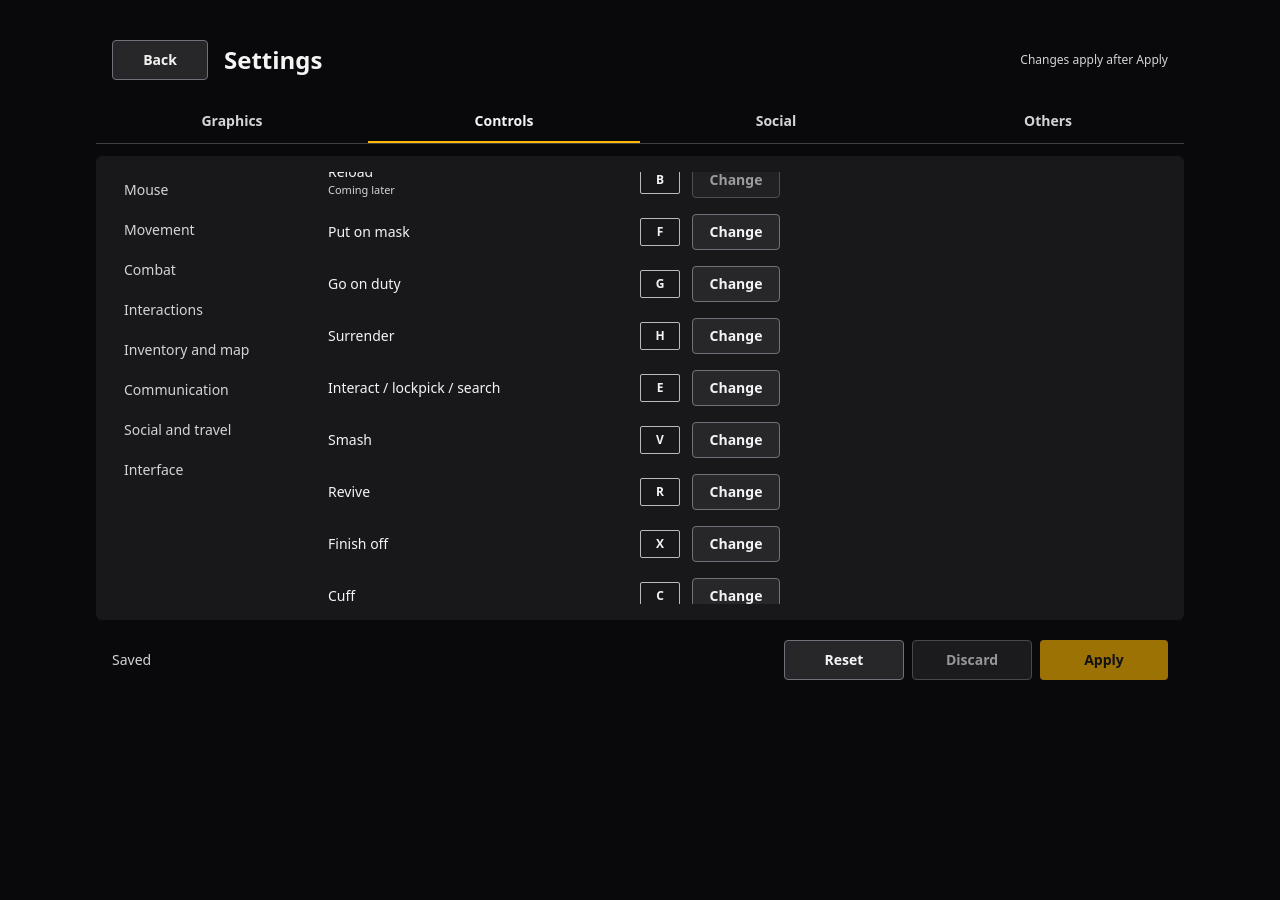
Scenario: SettingsScreen › Change on Interact opens the rebind dialog
The image size is (1280, 900).
(page scrolled)
Click the button "Change" in the row of "Interact / lockpick / search". click: click(736, 388)
box: left=692, top=370, right=780, bottom=406
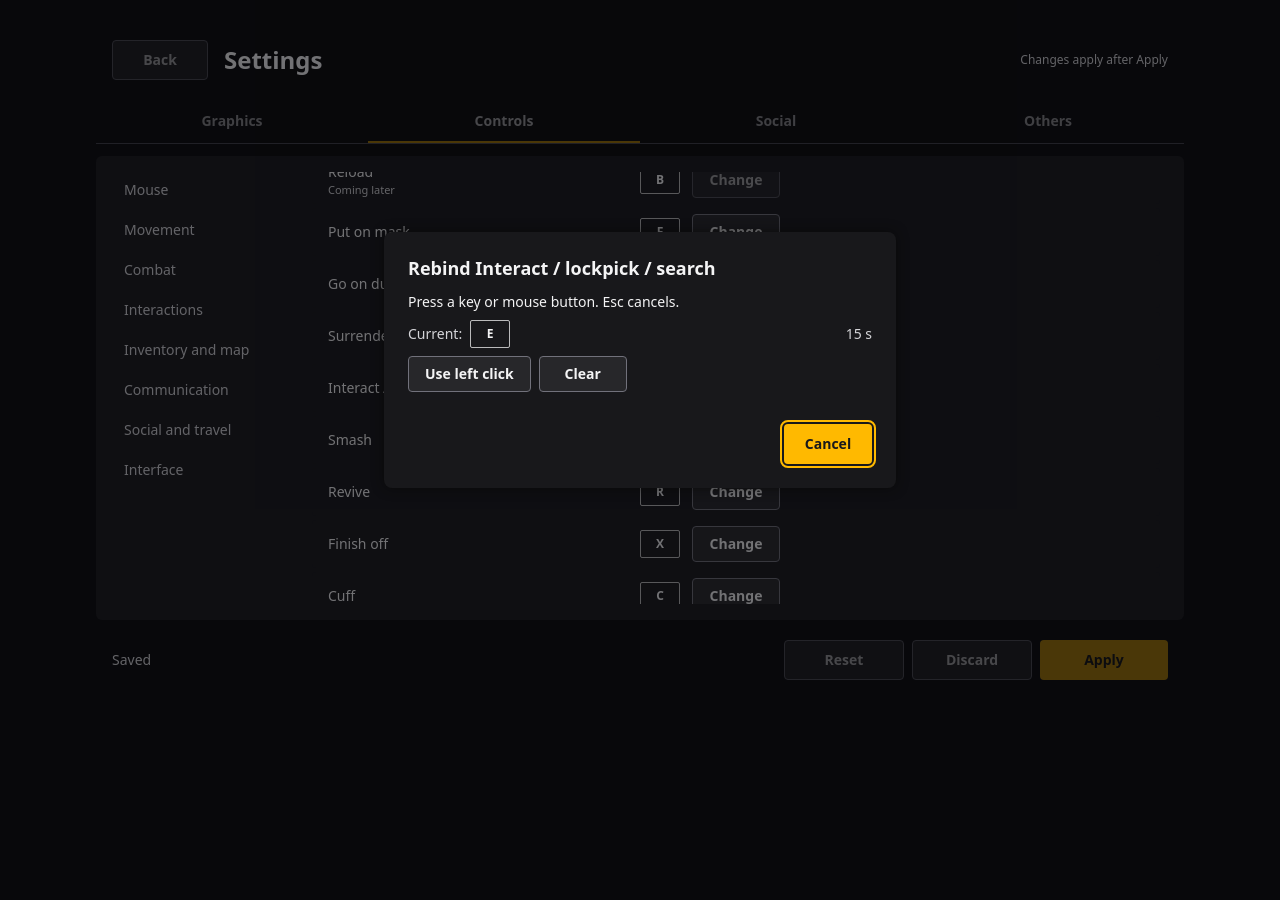
Now the dialog "Rebind Interact / lockpick / search" is shown, box left=384, top=232, right=896, bottom=488
Now the button "Back" is disabled, box left=112, top=40, right=208, bottom=80
Now the button "Reset" is disabled, box left=784, top=640, right=904, bottom=680
